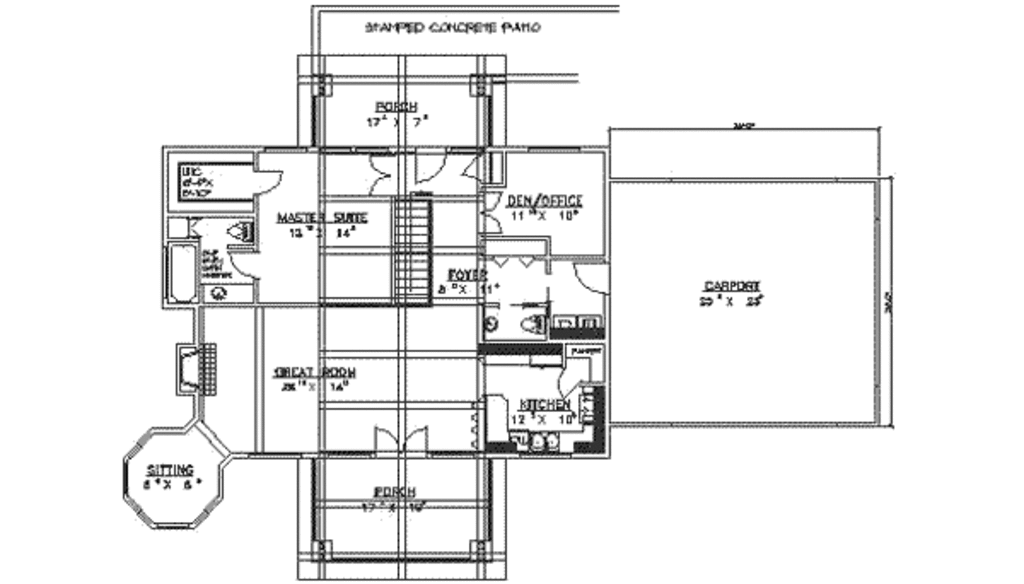door: (364, 424, 434, 460), (408, 142, 450, 180), (367, 148, 401, 193), (478, 189, 512, 234), (573, 259, 618, 293), (251, 166, 292, 200), (226, 248, 260, 281), (464, 148, 491, 182), (558, 369, 582, 398)
kitchen_bar: (465, 384, 520, 451)
large_sink: (219, 211, 259, 243), (519, 305, 553, 335)
small_sink: (486, 304, 504, 342)
stairs: (379, 192, 443, 313)
tub: (158, 238, 206, 305)
twin_sink: (525, 428, 562, 456)
